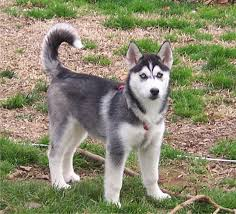Bulldog: (22, 14, 213, 213)
